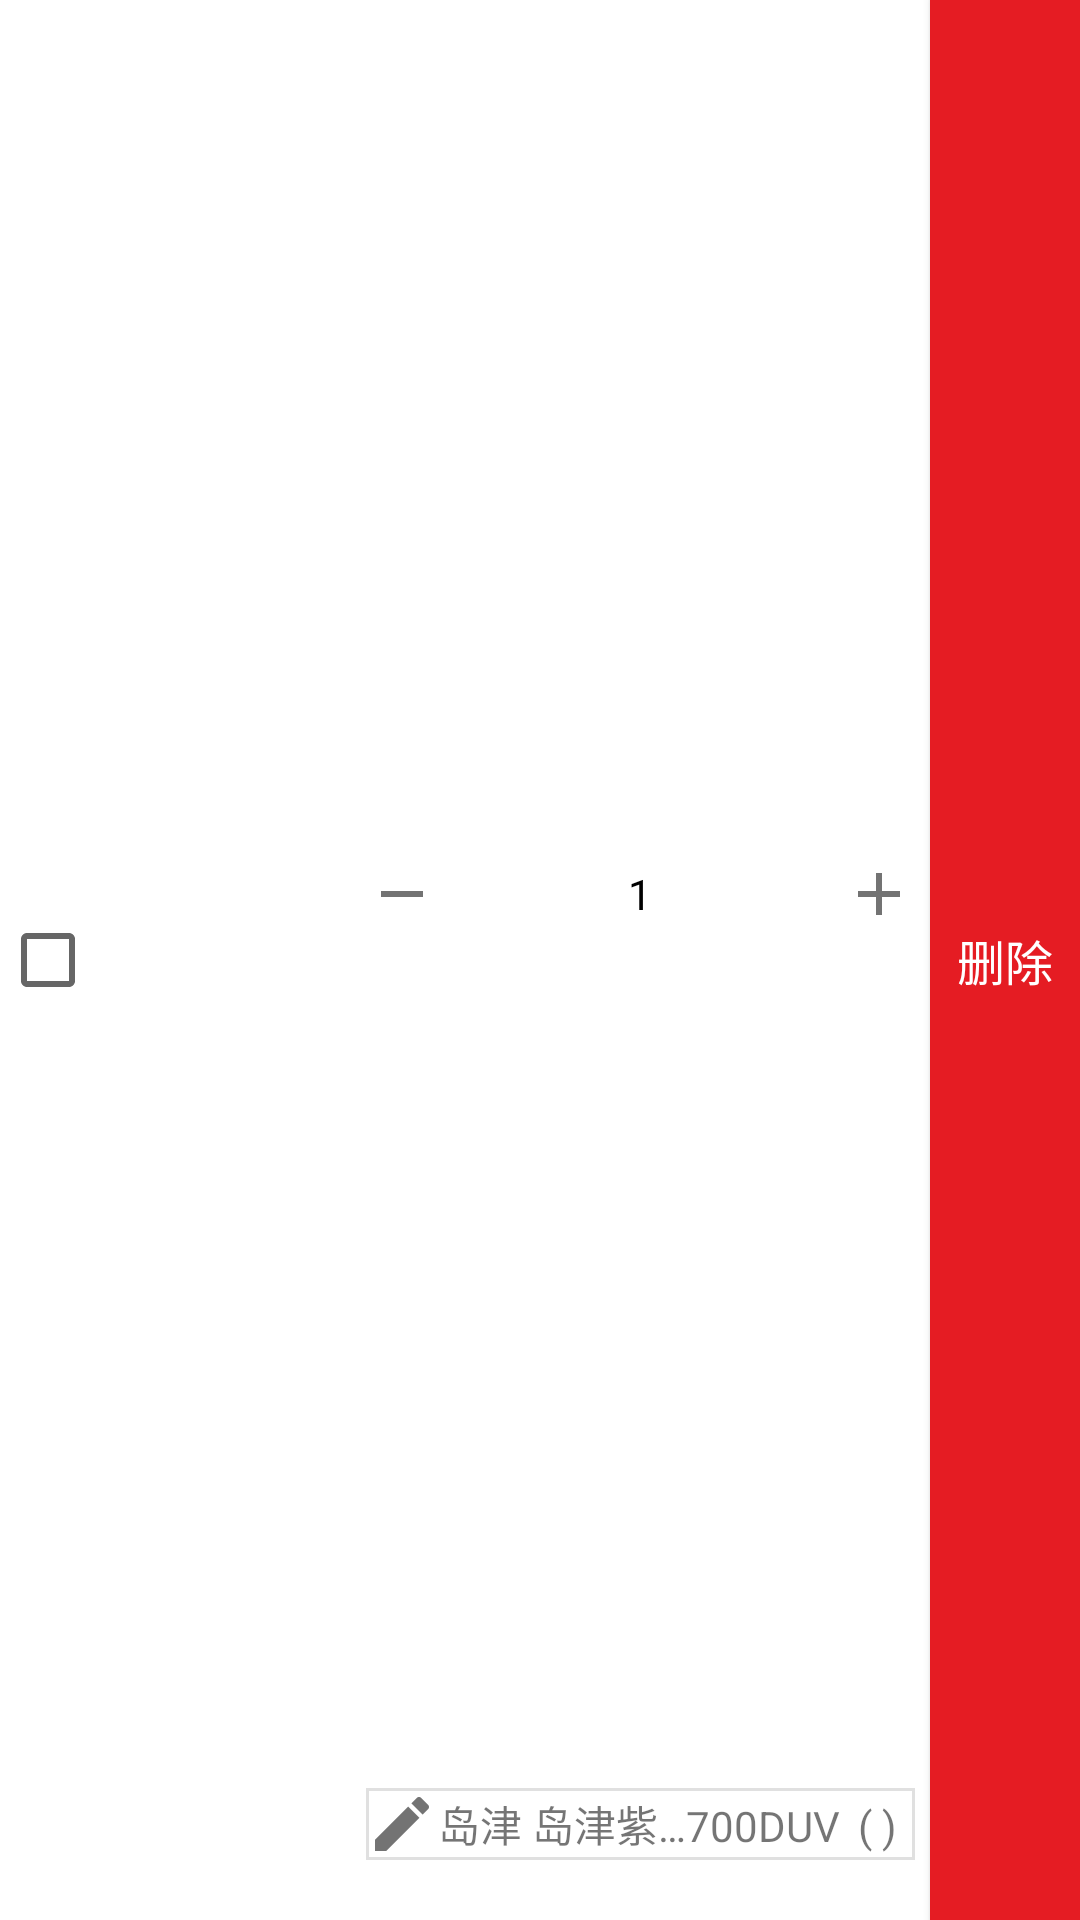

Icons on this 1080*1920 Android screen, each with its box as {"x1": x1, "y1": y1, "x2": x2, "y2": y2}:
add: {"x1": 858, "y1": 873, "x2": 900, "y2": 915}
